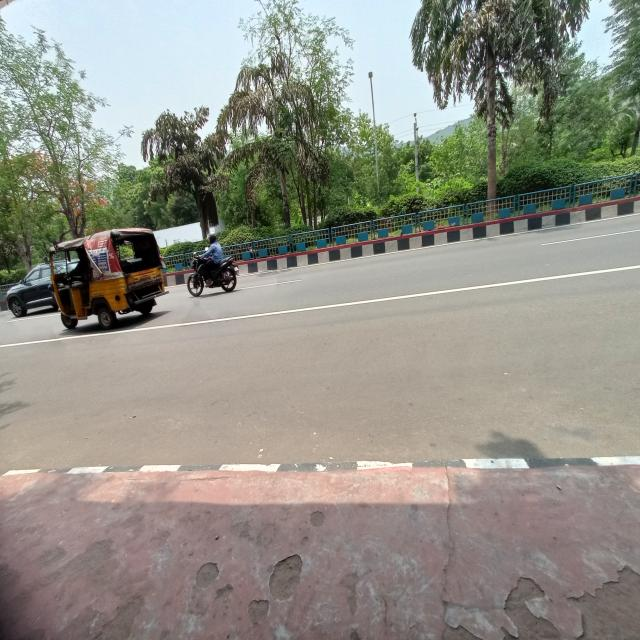bike: (186, 253, 243, 296)
car: (4, 261, 55, 326)
